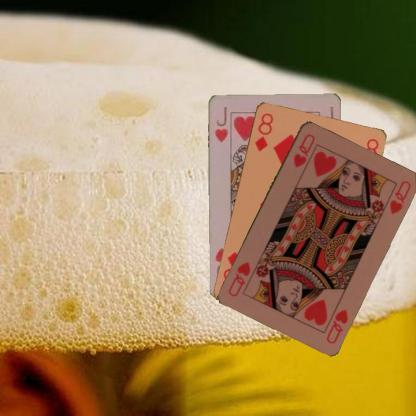8d: (252, 110, 274, 152)
Jh: (211, 104, 229, 144)
Qh: (324, 306, 350, 345), (291, 130, 316, 168)
